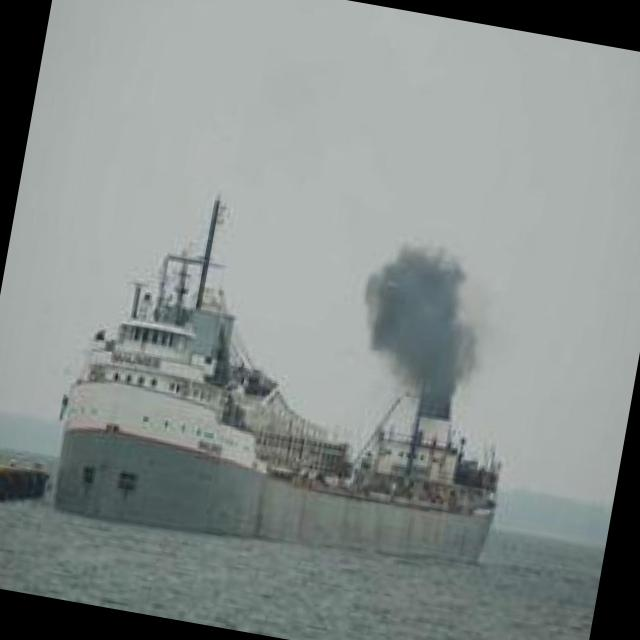boat: (5, 281, 571, 590)
